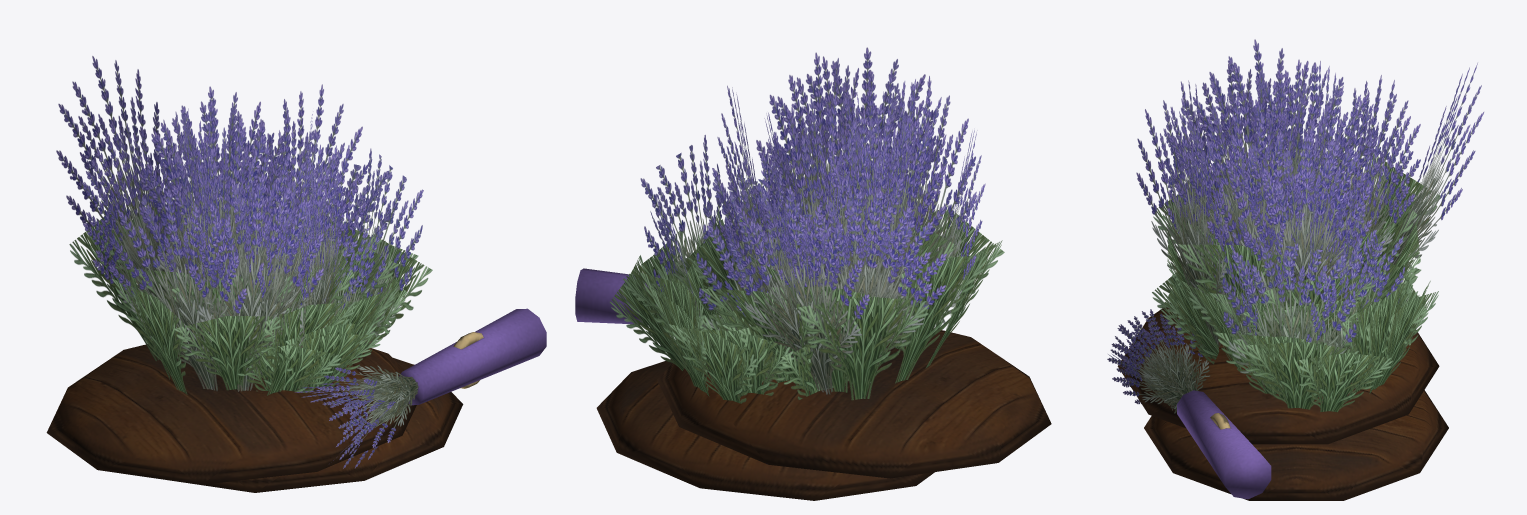
File: lavender_stages.glb
3 renders of one model, left to right at view 1: azimuth 30°, elevation 25°; view 2: azimuth 150°, elevation 25°; view 3: azimuth 270°, elevation 25°, orthographic. The views are drawn at different scales.
Visible parts, largest first — view 1: LavBeds_Leaves_S3, LavBeds_Struct_S3, LavBeds_Leaves_S2, LavBeds_Struct_S2, LavBeds_Leaves_S1; view 2: LavBeds_Leaves_S3, LavBeds_Struct_S3, LavBeds_Leaves_S2, LavBeds_Struct_S2, LavBeds_Leaves_S1; view 3: LavBeds_Leaves_S3, LavBeds_Leaves_S2, LavBeds_Struct_S3, LavBeds_Struct_S2, LavBeds_Leaves_S1.
Boxes of the visible parts, box(x1,y1,x2,y2) form: LavBeds_Leaves_S3: box(56, 56, 418, 468); LavBeds_Struct_S3: box(46, 308, 546, 484); LavBeds_Leaves_S2: box(219, 148, 432, 383); LavBeds_Struct_S2: box(190, 358, 463, 492); LavBeds_Leaves_S1: box(180, 233, 418, 392); LavBeds_Leaves_S3: box(673, 47, 1004, 400); LavBeds_Struct_S3: box(575, 268, 1051, 478); LavBeds_Leaves_S2: box(623, 135, 864, 403); LavBeds_Struct_S2: box(596, 359, 934, 500); LavBeds_Leaves_S1: box(609, 243, 810, 396); LavBeds_Leaves_S3: box(1107, 39, 1483, 413); LavBeds_Leaves_S2: box(1160, 173, 1430, 409); LavBeds_Struct_S3: box(1117, 303, 1439, 499); LavBeds_Struct_S2: box(1144, 390, 1448, 500); LavBeds_Leaves_S1: box(1152, 256, 1438, 412).
Size of the model in its own units: 1.22 by 0.9491 by 1.05.
Materials: 2 (2 with a texture image).
